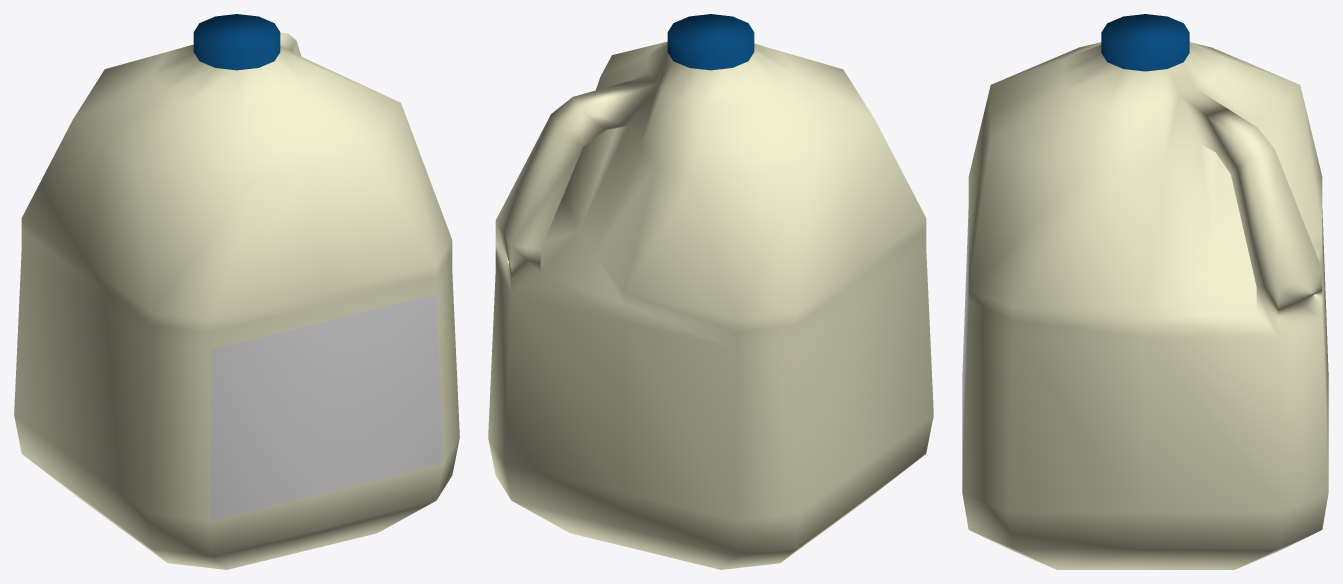
The model's file is Milk_Gallon.fbx.
3 renders of one model, left to right at view 1: azimuth 30°, elevation 25°; view 2: azimuth 150°, elevation 25°; view 3: azimuth 270°, elevation 25°, orthographic.
Parts seen in each view (by area): view 1: Milk_Gallon_5; view 2: Milk_Gallon_5; view 3: Milk_Gallon_5.
Part boxes in pixels (left/top/right/bottom): Milk_Gallon_5: left=14, top=14, right=459, bottom=569; Milk_Gallon_5: left=488, top=14, right=933, bottom=569; Milk_Gallon_5: left=962, top=14, right=1328, bottom=569.
Size of the model in its own units: 166 by 240 by 166.
